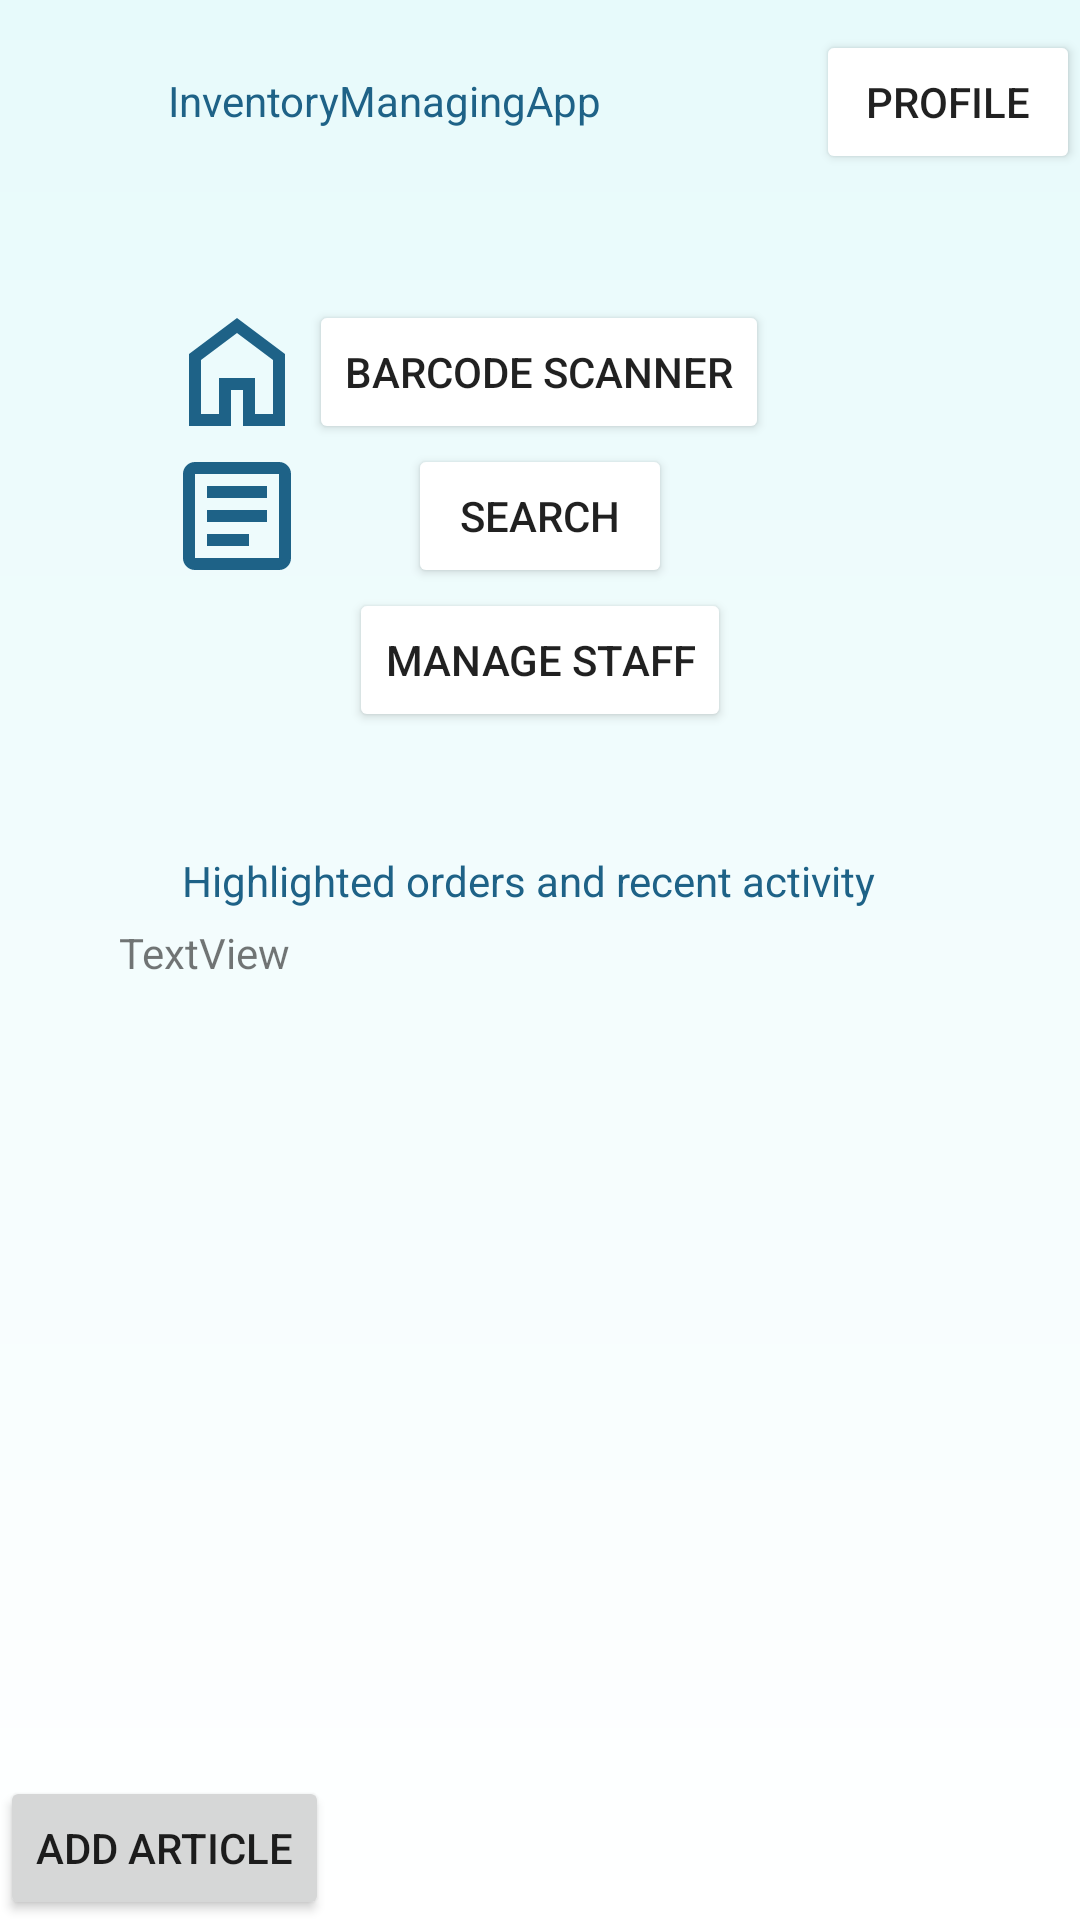

Named icons in this screenshot (1080×1920) and their bounding boxes, bbox(x1, y1, x2, y2):
article: bbox(183, 462, 291, 570)
home: bbox(189, 318, 285, 426)
